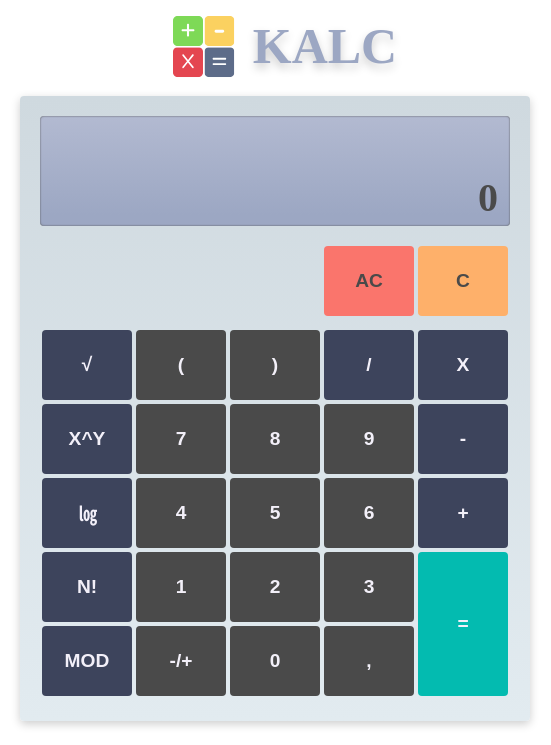
The keypad should › input a invalid formula with a operation signal endind and check if error is displayed
Click the button "2": [275, 587] box [230,552,320,622]
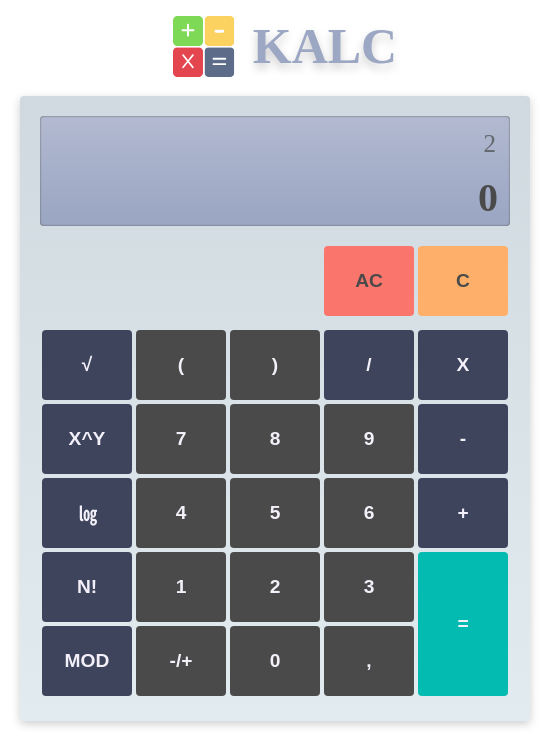
Click the button "+": [463, 513] box [418,478,508,548]
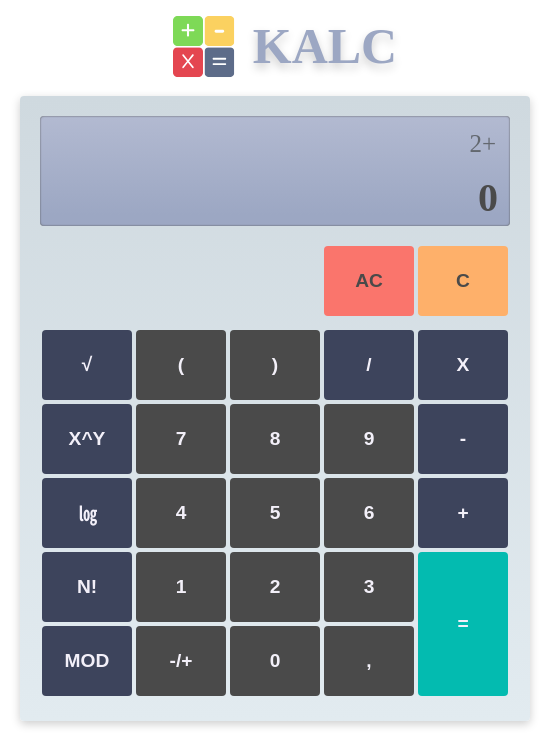
Click the button "=": [463, 624] box [418,552,508,696]
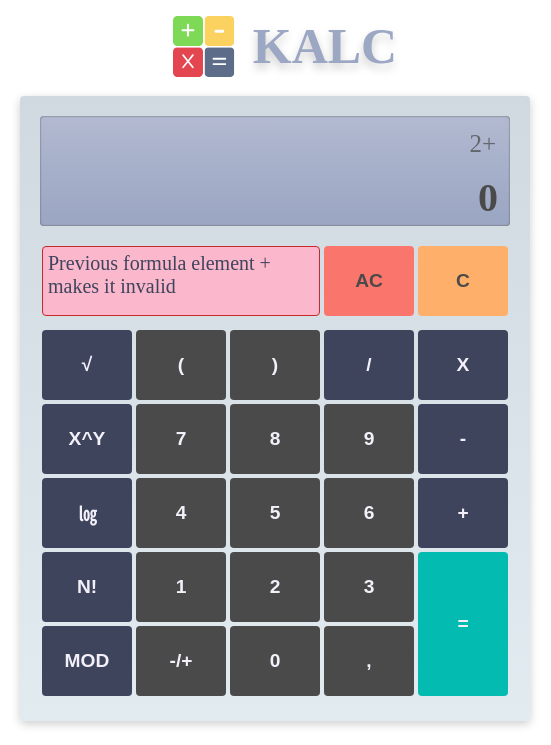
Expected: the message "Previous formula element + makes it invalid" is shown, [42,246,320,316]
